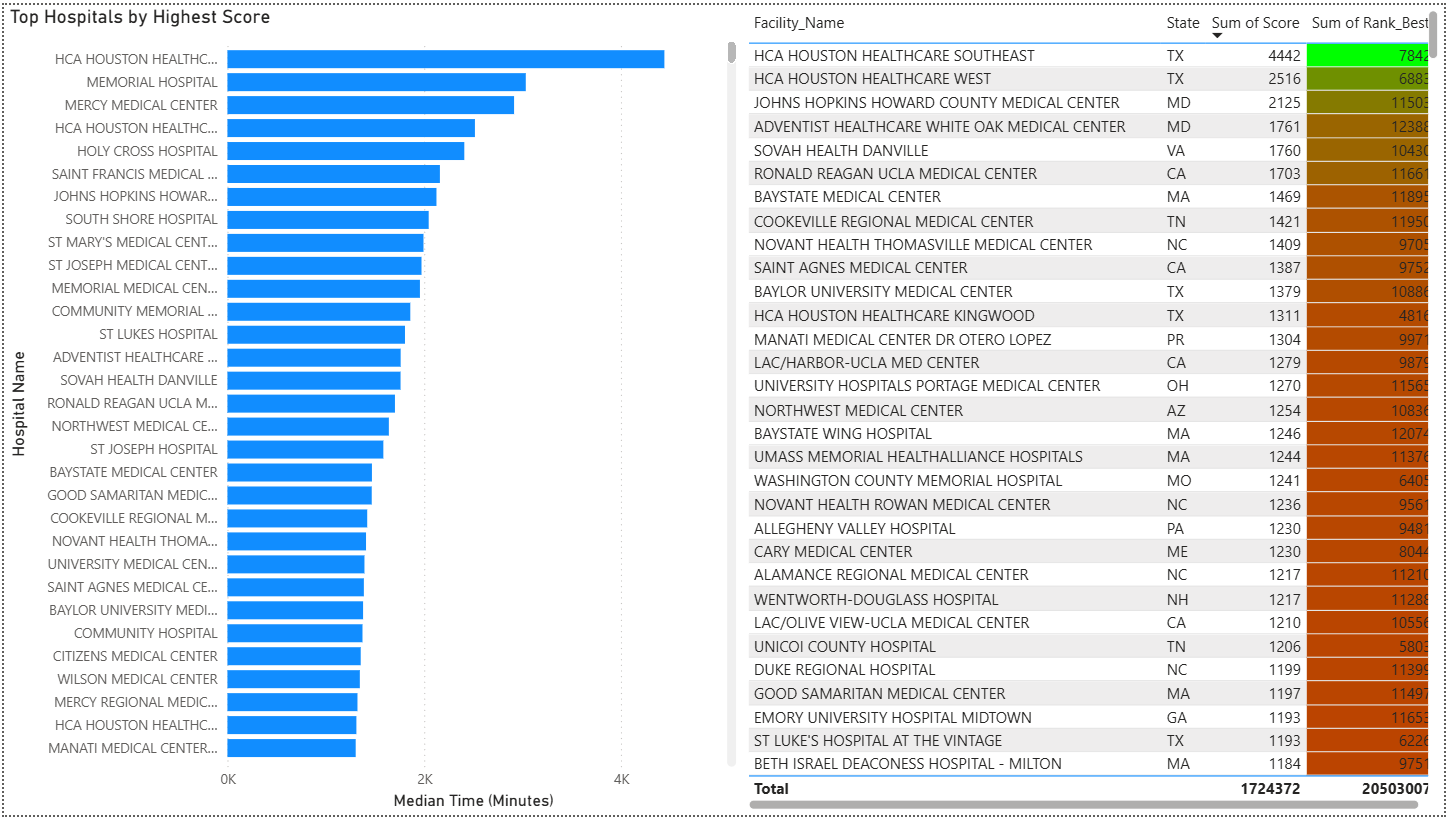

Layout of this report page (visuals, bound fields, positions):
{"tool":"powerbi","page":{"name":"Hospital Comparison","canvas":[1280,720],"ordinal":0},"visuals":[{"type":"clusteredBarChart","title":"Top Hospitals by Highest Score","fields":{"Category":["Metric #1.Facility_Name"],"Y":["Metric #1.Score"]},"box":[0,0,656,720],"z":0},{"type":"tableEx","fields":{"Values":["Metric #1.Facility_Name","Metric #1.State","Metric #1.Score","Metric #1.Rank_Best"]},"box":[656,0,624,720],"z":1000}]}

Visuals, with their boxes in screenshot pixels (x1, y1, x2, y2), scaled from the page's 1280x720 canvas onto the 1448x819 screenshot:
"Top Hospitals by Highest Score" clusteredBarChart: bbox=(0, 0, 742, 818)
tableEx - Metric #1.Facility_Name x Metric #1.State: bbox=(742, 0, 1447, 818)
